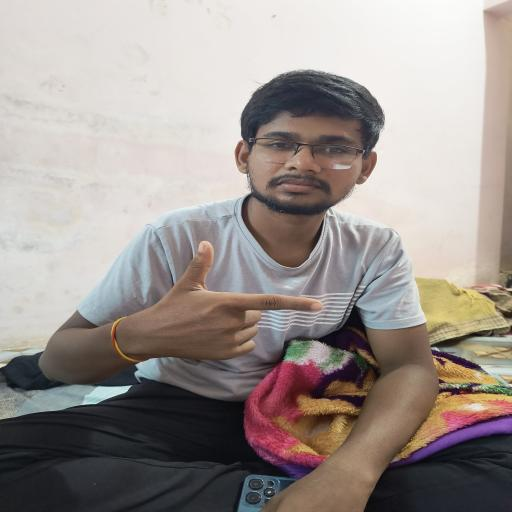OK: (102, 236, 348, 372)
